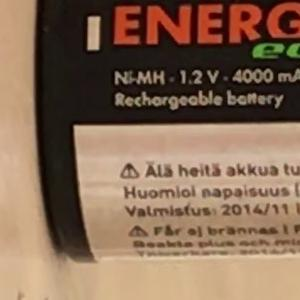keyword: (106, 62, 161, 93)
